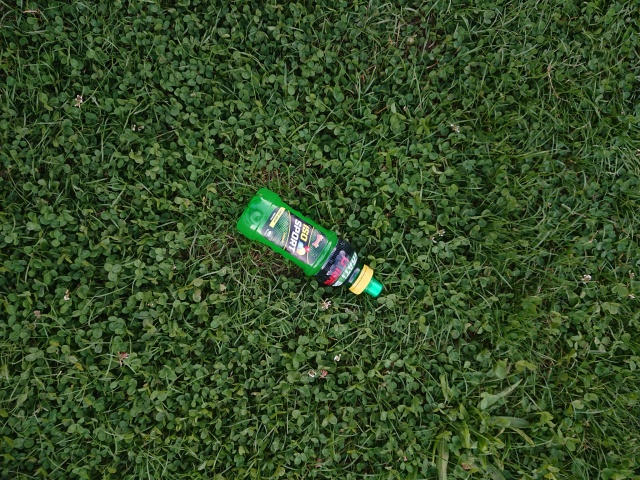Vindi Iso Sport Lemon-Grapefruit 500mL: (232, 184, 385, 300)
